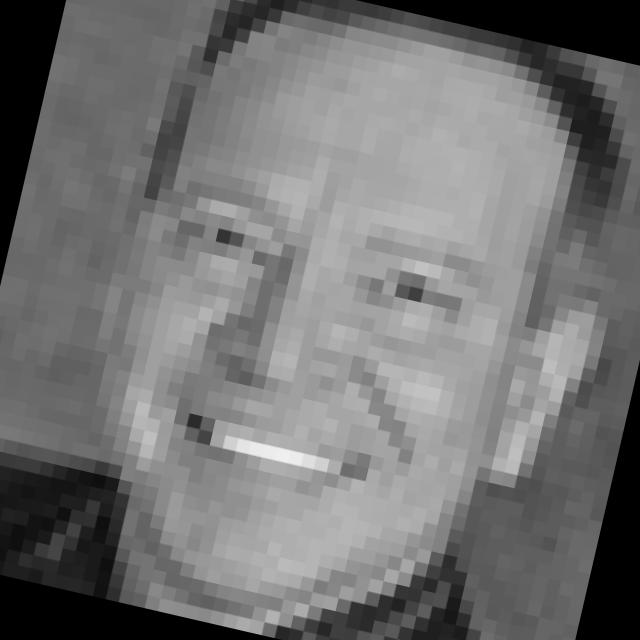happy: (99, 158, 491, 555)
